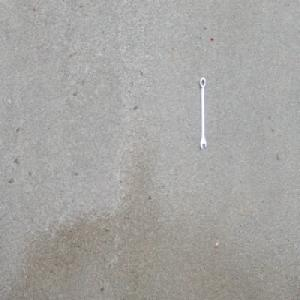Wrench: (198, 75, 206, 150)
